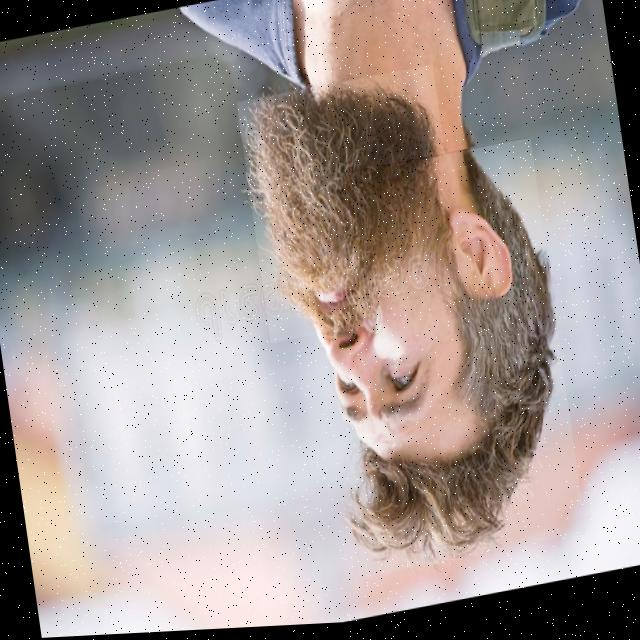beard: (248, 93, 455, 334)
hair: (357, 154, 556, 566)
